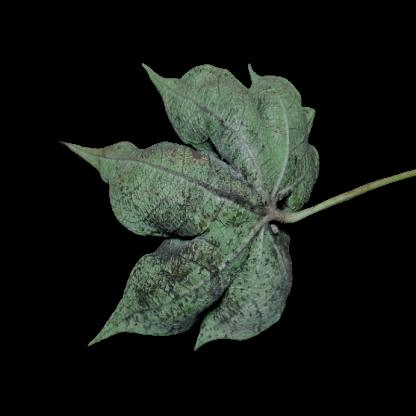curl_stage2: (254, 110, 292, 184), (291, 110, 315, 198), (212, 75, 257, 116), (164, 81, 193, 117), (260, 82, 295, 108)
sooty: (138, 187, 214, 307), (217, 229, 291, 331), (135, 268, 197, 333), (213, 154, 255, 226), (162, 132, 216, 181), (110, 165, 150, 213)
